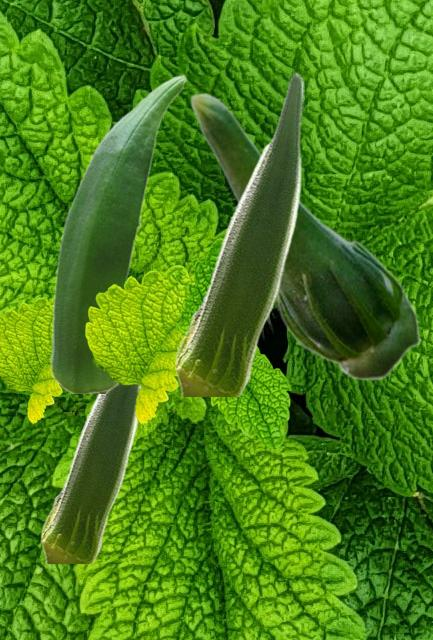okra: (189, 92, 420, 380), (49, 74, 186, 392), (174, 71, 303, 395), (40, 385, 140, 562)
